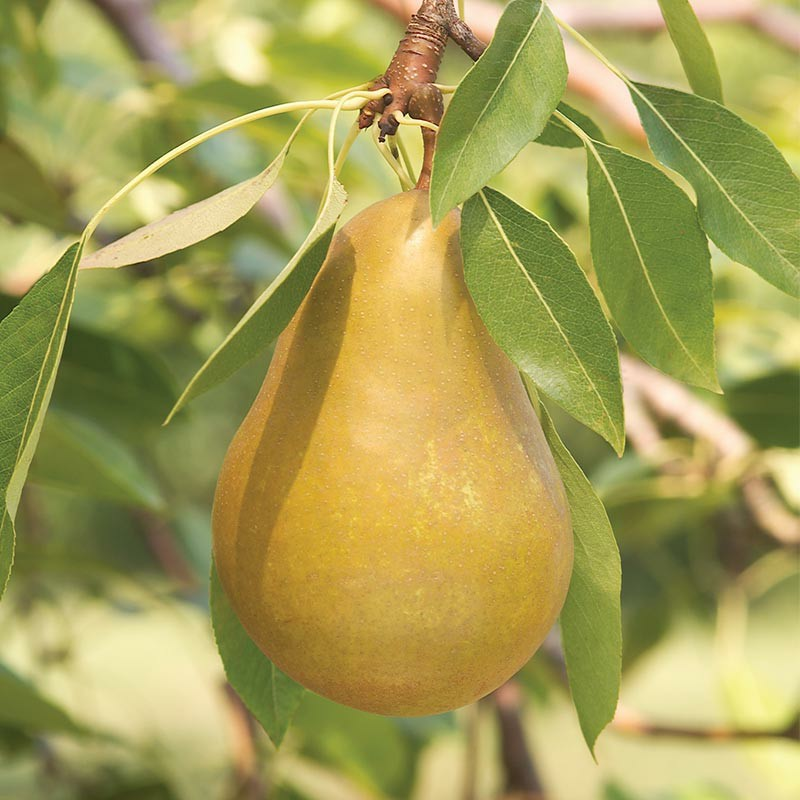pear: (213, 189, 576, 714)
